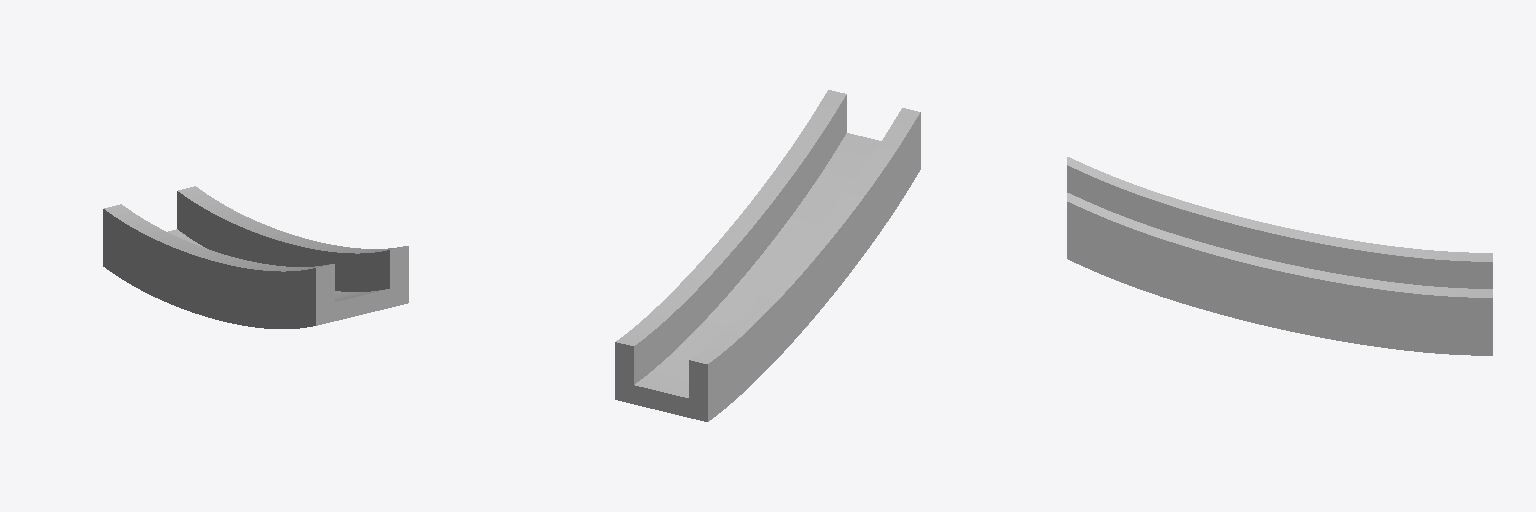
The model's file is ThinRampTransitionDown.obj.
3 views of the same model, side by side, from view 1: azimuth 30°, elevation 25°; view 2: azimuth 150°, elevation 25°; view 3: azimuth 270°, elevation 25° (orthographic).
Parts seen in each view (by area): view 1: ThinRampTransitionDown; view 2: ThinRampTransitionDown; view 3: ThinRampTransitionDown.
Boxes of the visible parts, x1,y1,x2,y2 form: ThinRampTransitionDown: [103, 186, 408, 328]; ThinRampTransitionDown: [615, 90, 920, 421]; ThinRampTransitionDown: [1067, 157, 1492, 355].
Size of the model in its own units: 1 by 1.6 by 4.